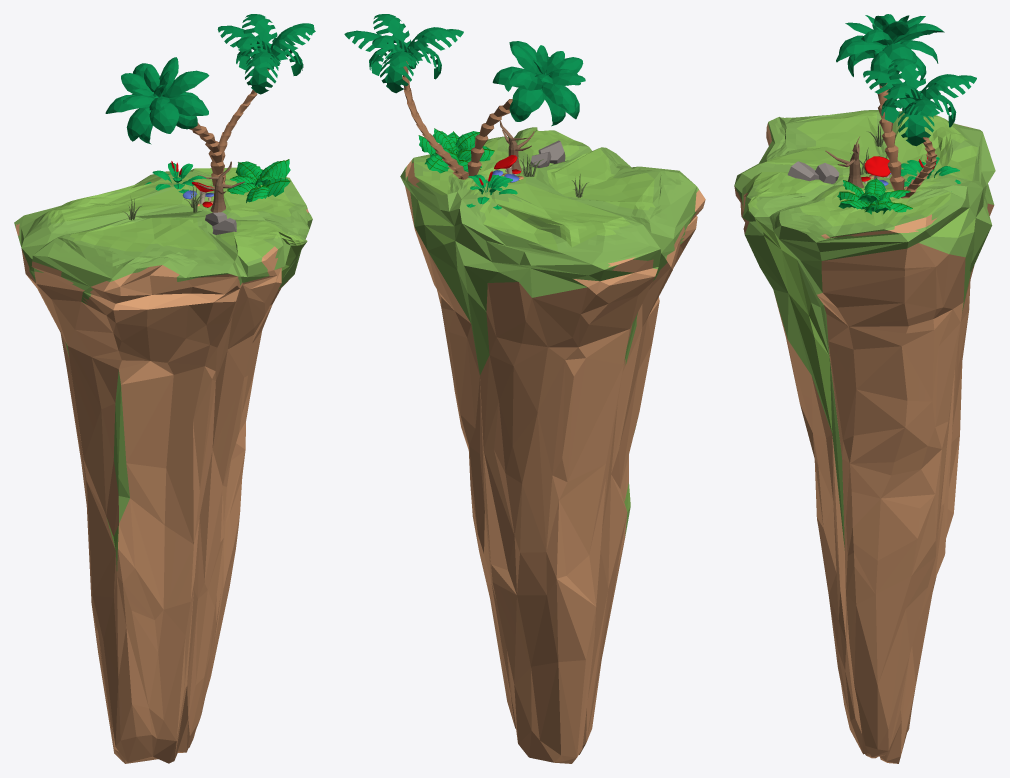
Rendered from Rock5.fbx.
3 renders of one model, left to right at view 1: azimuth 30°, elevation 25°; view 2: azimuth 150°, elevation 25°; view 3: azimuth 270°, elevation 25°, orthographic. The views are drawn at different scales.
Visible parts, largest first — view 1: rock1, Palm3, Palm4, plant3, Plant4, tree-body, Stone; view 2: rock1, Palm3, Palm4, plant3, Plant4, Stone; view 3: rock1, Palm4, Palm3, plant3, Stone, Plant4, Mushroom2, tree-body.
Boxes of the visible parts, x1,y1,x2,y2 form: rock1: (14,167,312,763); Palm3: (105,57,224,186); Palm4: (212,14,315,184); plant3: (226,159,290,202); Plant4: (145,161,206,193); tree-body: (197,161,244,212); Stone: (205,212,236,234); rock1: (400,127,705,763); Palm3: (467,41,585,178); Palm4: (344,14,468,179); plant3: (418,128,494,173); Plant4: (466,171,517,209); Stone: (531,140,565,167); rock1: (734,110,995,763); Palm4: (863,58,976,198); Palm3: (836,14,944,190); plant3: (837,177,912,214); Stone: (787,161,839,183); Plant4: (900,153,960,186); Mushroom2: (861,156,891,185); tree-body: (825,136,863,187).
Size of the model in its own units: 402 by 880 by 278.
